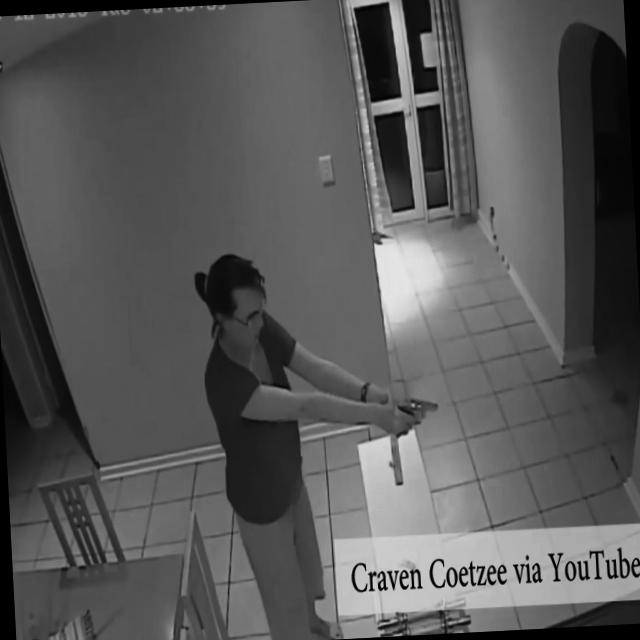gun: (378, 384, 444, 436)
person with a gun: (189, 242, 450, 544)
